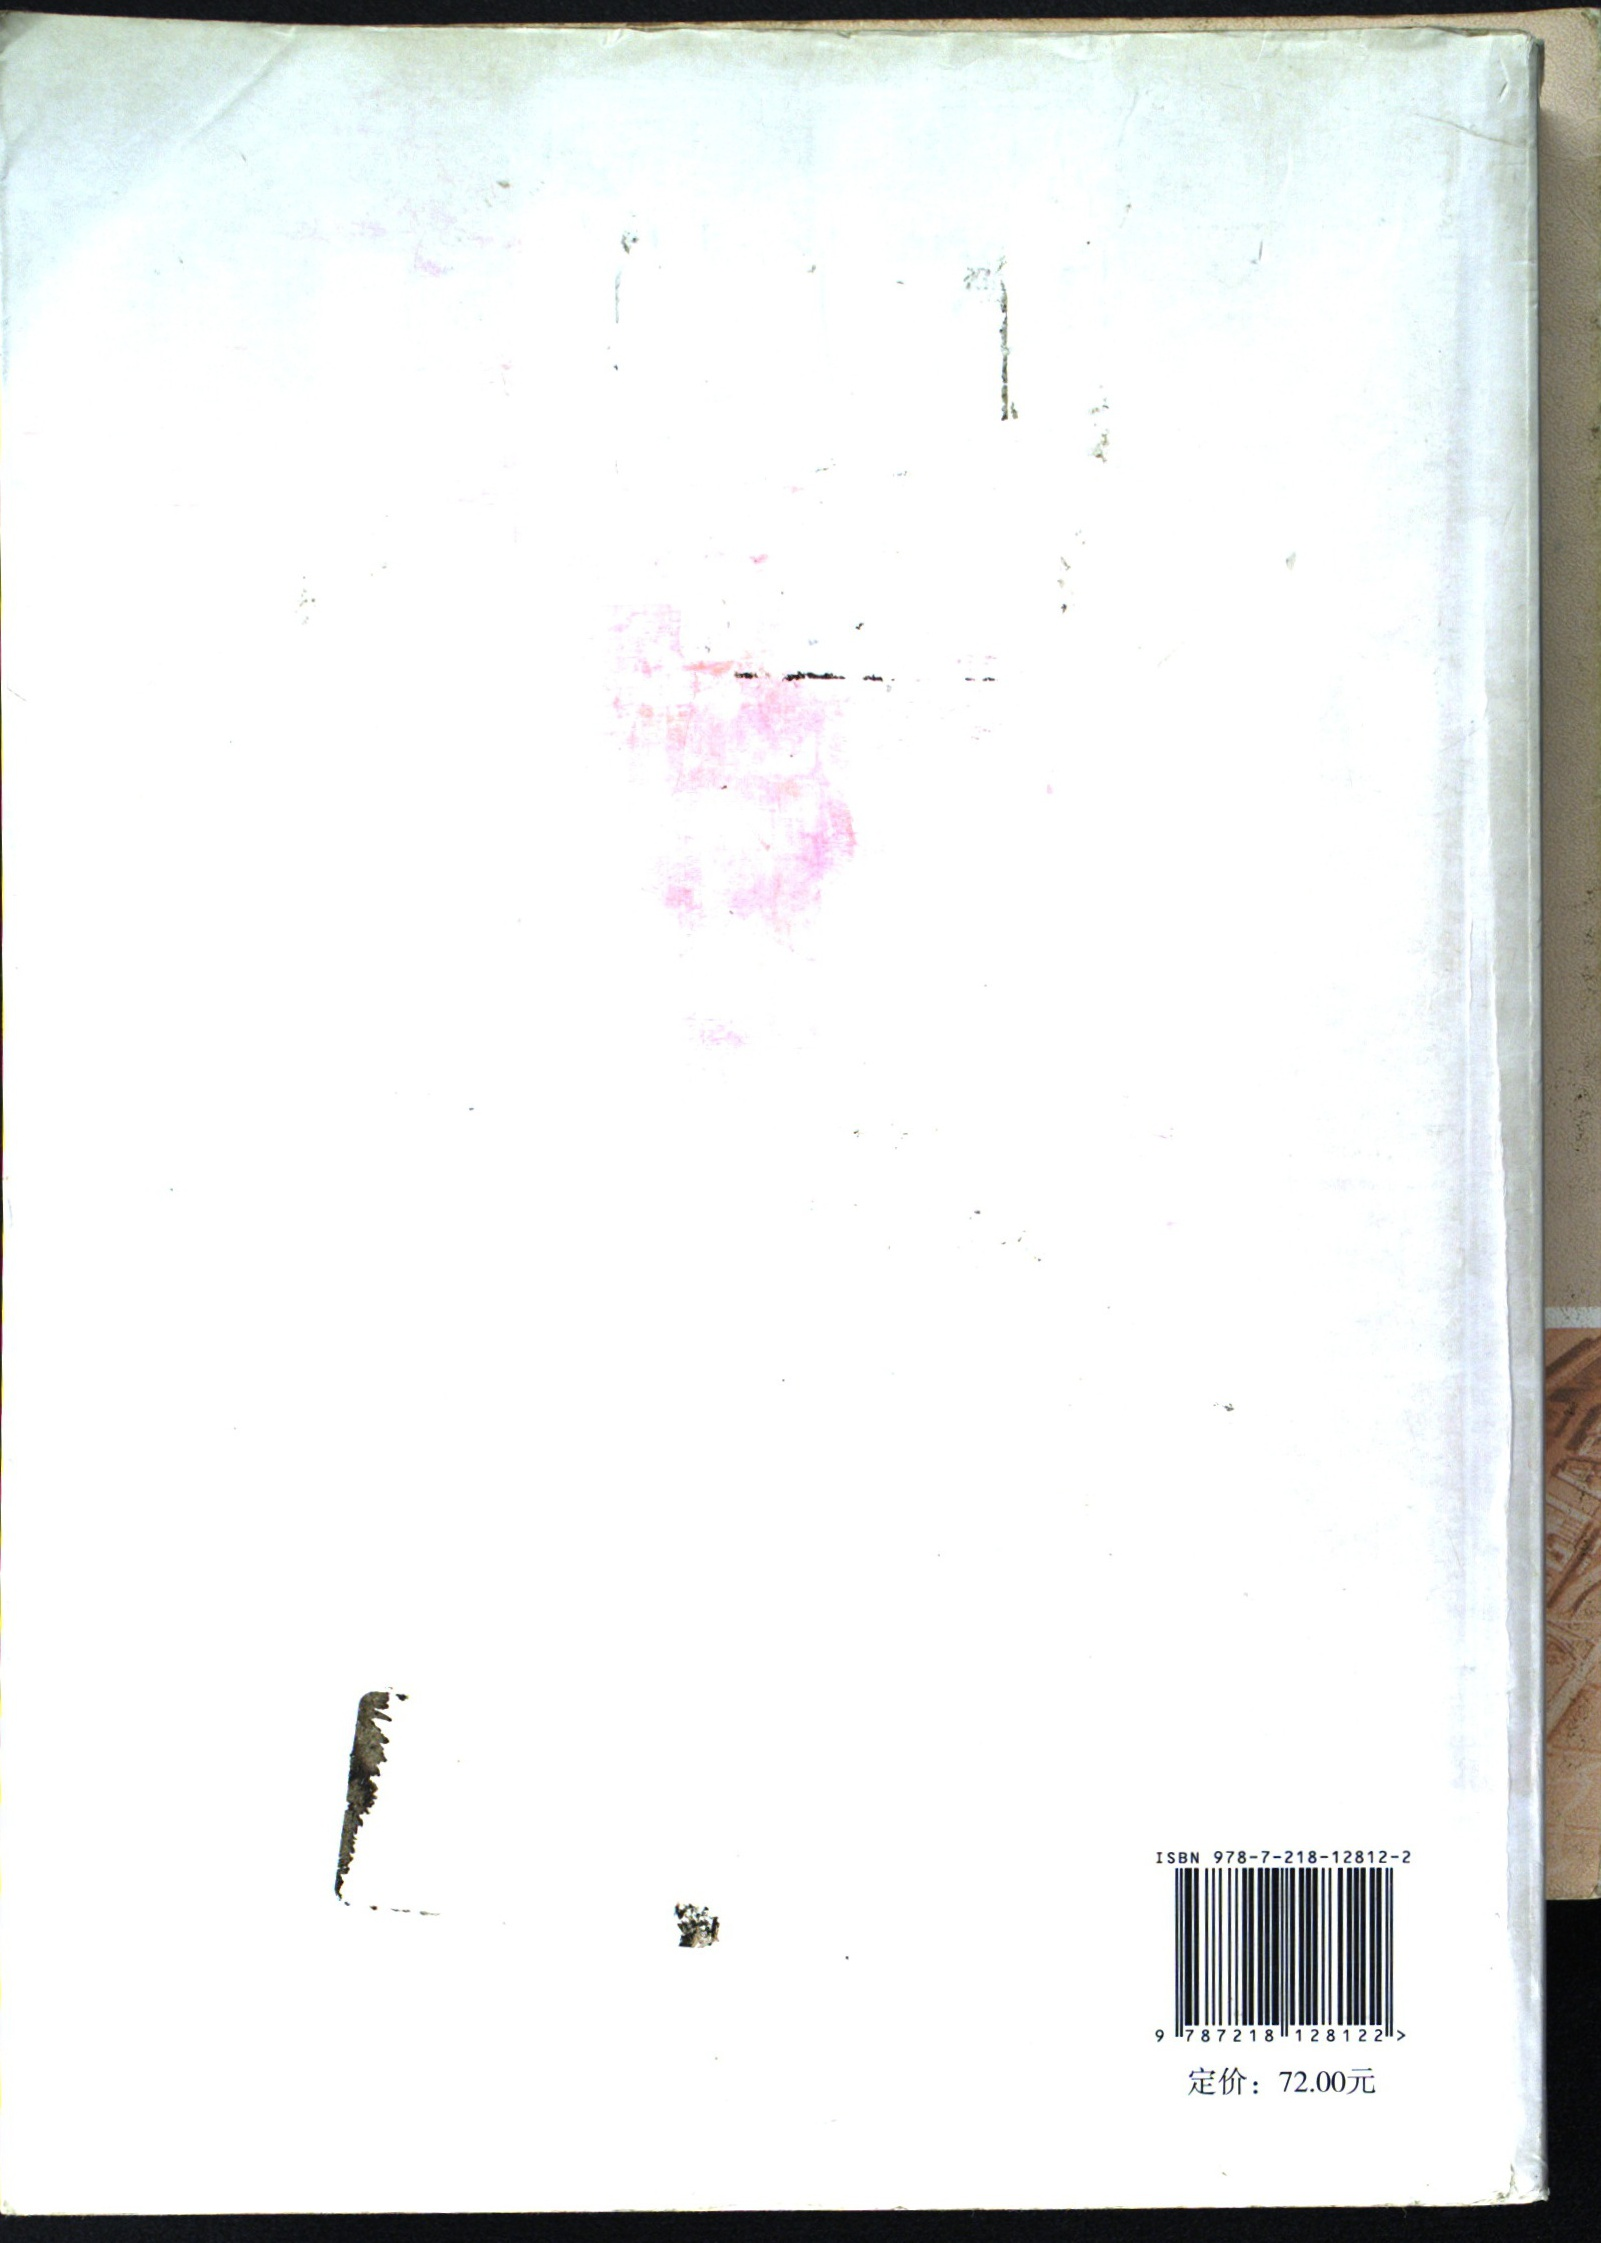barcode: (1131, 1848, 1443, 2056)
